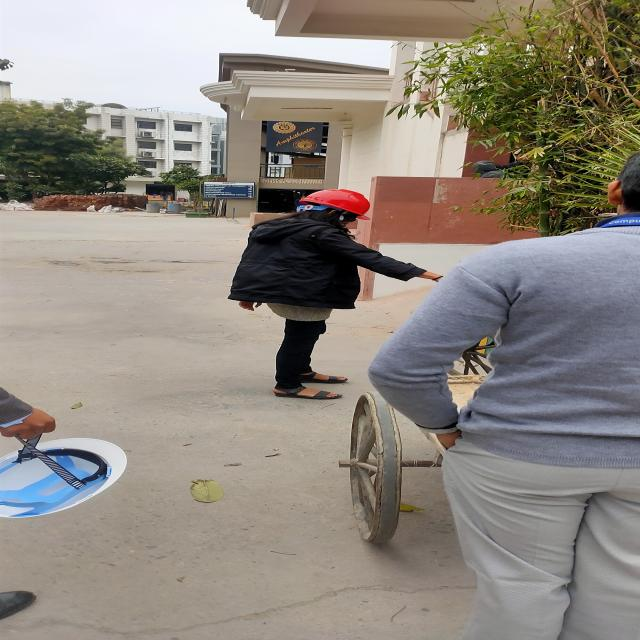no jacket: (225, 188, 432, 400)
unsafe: (380, 156, 640, 640)
